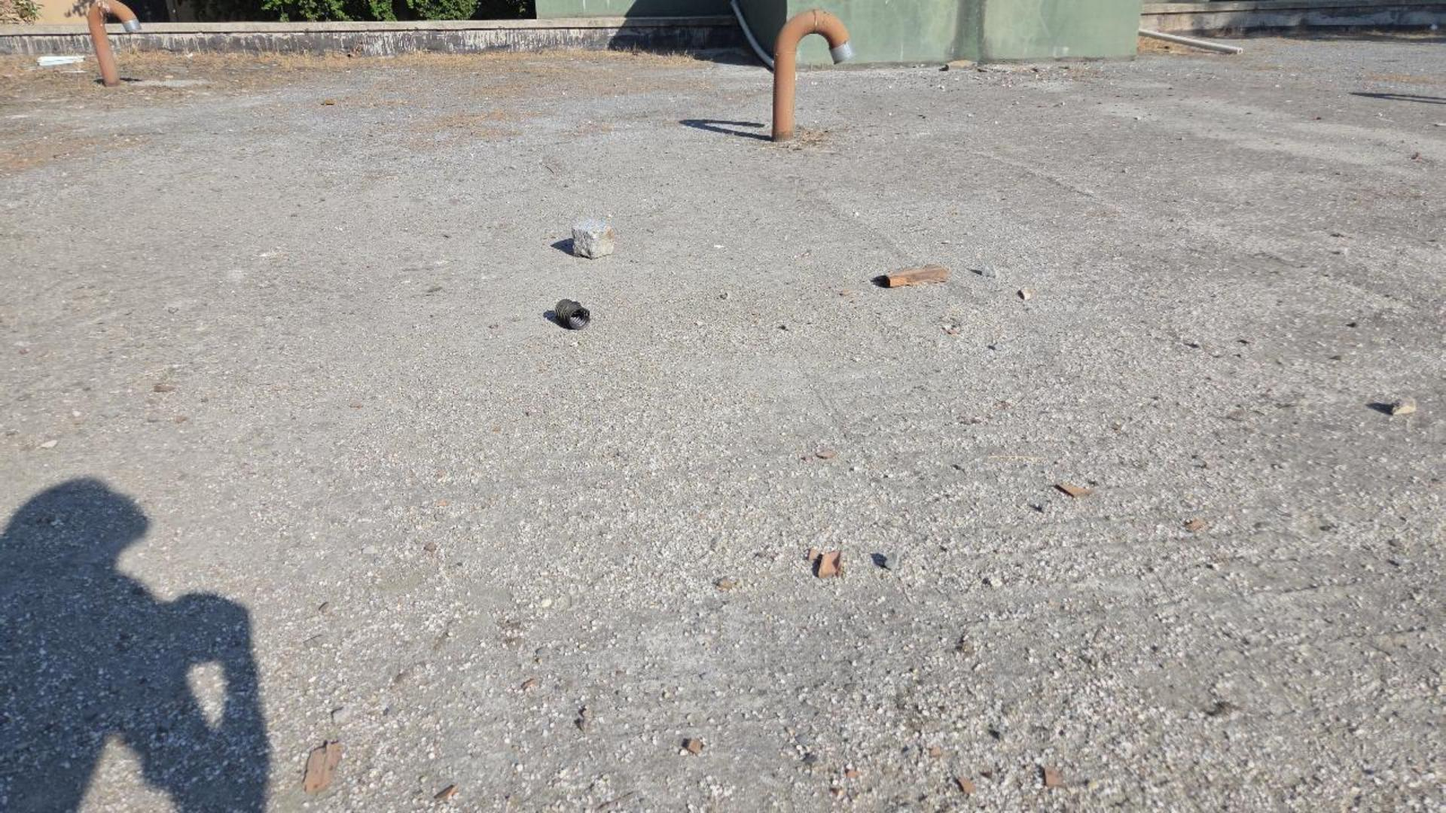rock: (573, 217, 613, 257)
